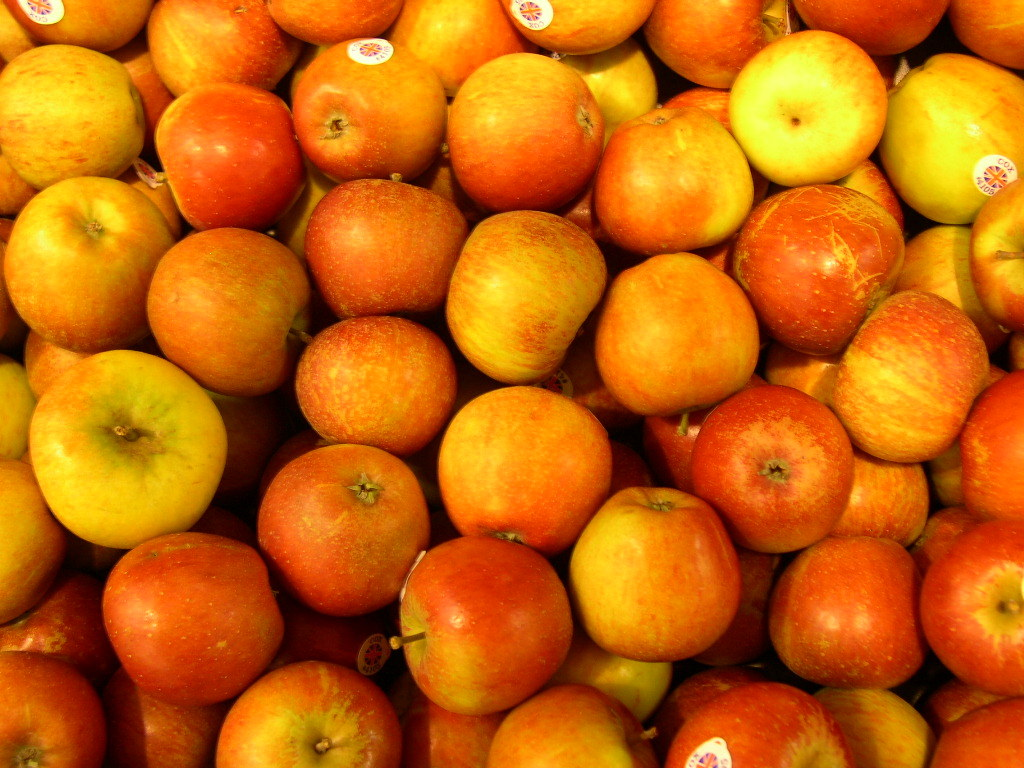Apple: (0, 0, 1022, 767), (147, 85, 296, 226)
